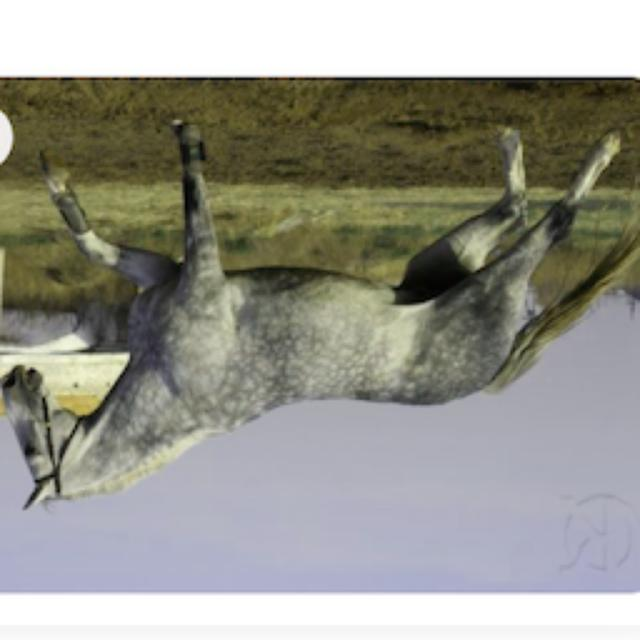Horse: (2, 115, 640, 518)
